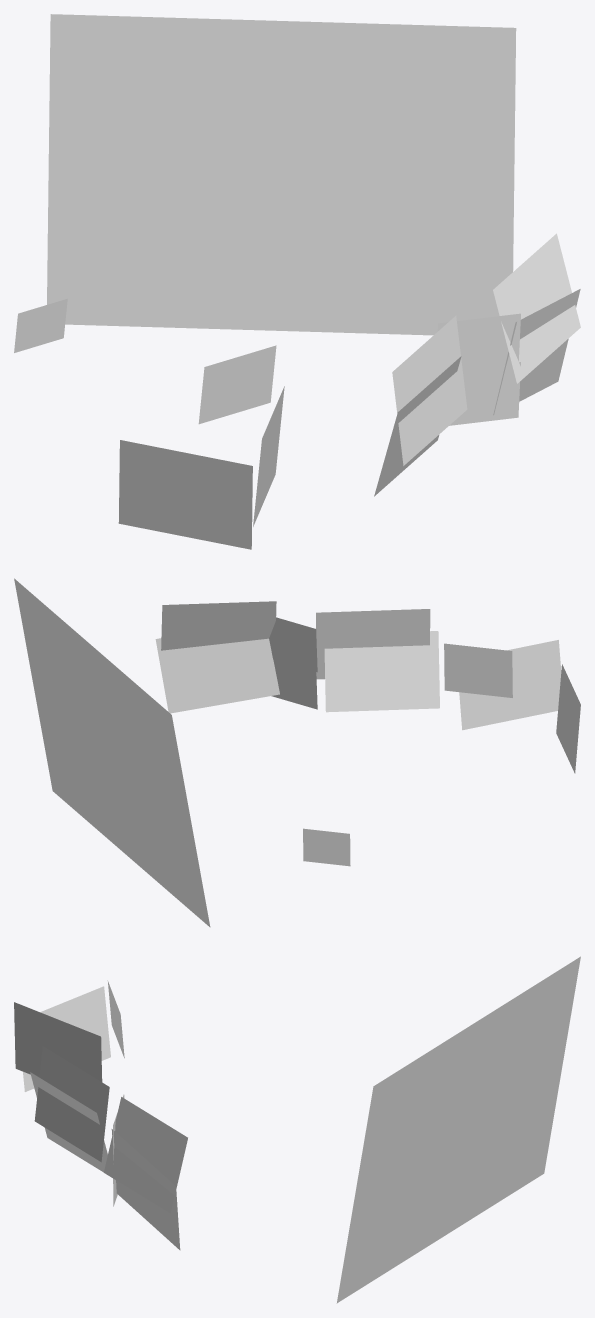
The model's file is MapWebs.obj.
3 views of the same model, one above another, from view 1: azimuth 30°, elevation 25°; view 2: azimuth 150°, elevation 25°; view 3: azimuth 270°, elevation 25° (orthographic). The views are drawn at different scales.
Parts seen in each view (by area): view 1: Plane.018_Plane.015, Plane.044, Plane.039, Plane.009_Plane.002, Plane.041, Plane.010_Plane.000, Plane.042, Plane.045, Plane.043, Plane.038, Plane.037; view 2: Plane.018_Plane.015, Plane.038, Plane.045, Plane.037, Plane.039, Plane.009_Plane.002, Plane.041, Plane.042, Plane.044, Plane.043, Plane.010_Plane.000; view 3: Plane.018_Plane.015, Plane.039, Plane.009_Plane.002, Plane.037, Plane.045, Plane.044, Plane.038, Plane.041.
Boxes of the visible parts, left/top/right/bottom form: Plane.018_Plane.015: left=47, top=14, right=516, bottom=335; Plane.044: left=118, top=440, right=252, bottom=549; Plane.039: left=493, top=233, right=580, bottom=383; Plane.009_Plane.002: left=392, top=315, right=467, bottom=465; Plane.041: left=198, top=345, right=276, bottom=424; Plane.010_Plane.000: left=449, top=362, right=520, bottom=425; Plane.042: left=437, top=313, right=520, bottom=368; Plane.045: left=493, top=289, right=580, bottom=415; Plane.043: left=14, top=298, right=67, bottom=352; Plane.038: left=374, top=356, right=461, bottom=496; Plane.037: left=253, top=386, right=284, bottom=526; Plane.018_Plane.015: left=14, top=578, right=210, bottom=927; Plane.038: left=324, top=631, right=439, bottom=712; Plane.045: left=155, top=638, right=279, bottom=713; Plane.037: left=459, top=640, right=561, bottom=730; Plane.039: left=161, top=601, right=276, bottom=650; Plane.009_Plane.002: left=316, top=609, right=430, bottom=679; Plane.041: left=444, top=643, right=512, bottom=697; Plane.042: left=269, top=617, right=317, bottom=672; Plane.044: left=556, top=664, right=580, bottom=773; Plane.043: left=303, top=828, right=350, bottom=866; Plane.010_Plane.000: left=271, top=659, right=317, bottom=709; Plane.018_Plane.015: left=336, top=956, right=580, bottom=1303; Plane.039: left=104, top=1097, right=187, bottom=1213; Plane.009_Plane.002: left=34, top=1046, right=109, bottom=1162; Plane.037: left=14, top=1002, right=102, bottom=1081; Plane.045: left=111, top=1129, right=180, bottom=1250; Plane.044: left=23, top=986, right=110, bottom=1091; Plane.038: left=30, top=1072, right=107, bottom=1172; Plane.041: left=107, top=980, right=124, bottom=1058.
Size of the model in its own units: 70.36 by 34.04 by 76.82.
